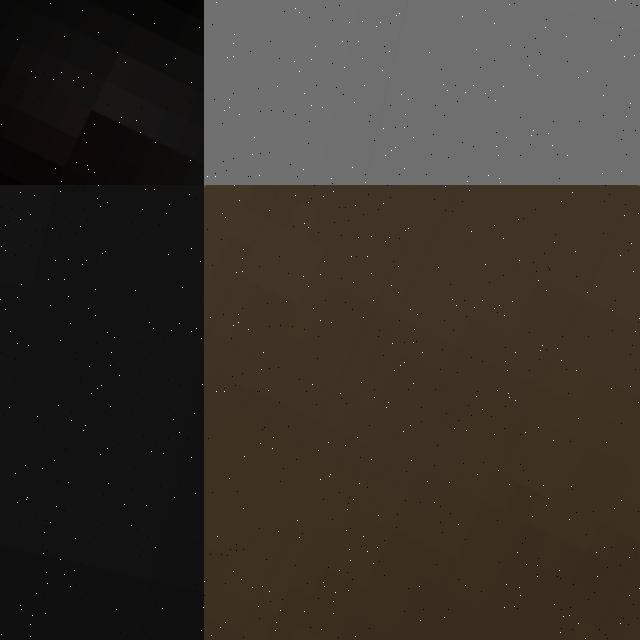0: (0, 0, 204, 185)
drone: (204, 185, 640, 640)
